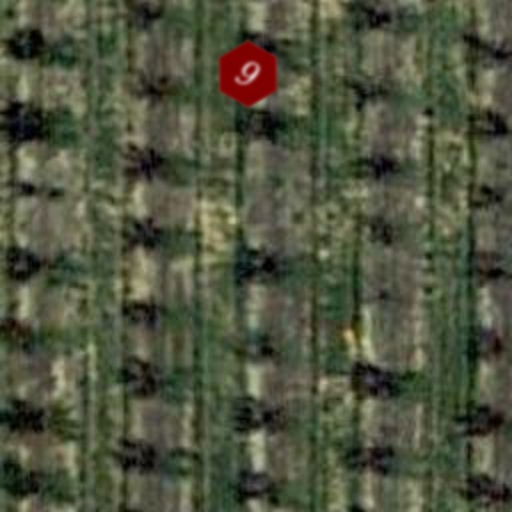hexagon: (202, 28, 294, 120)
